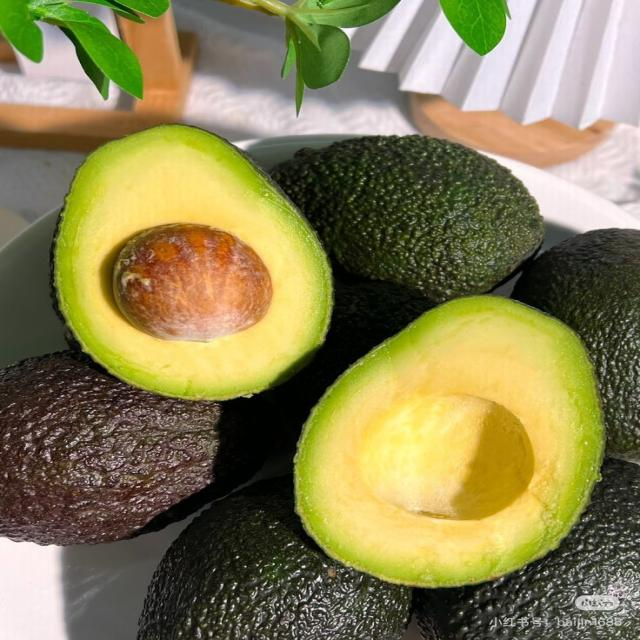avocado: (295, 296, 603, 587), (53, 125, 332, 399), (0, 352, 268, 545), (272, 136, 543, 302), (138, 477, 412, 639), (417, 460, 639, 639), (514, 229, 639, 461), (274, 280, 430, 439)
